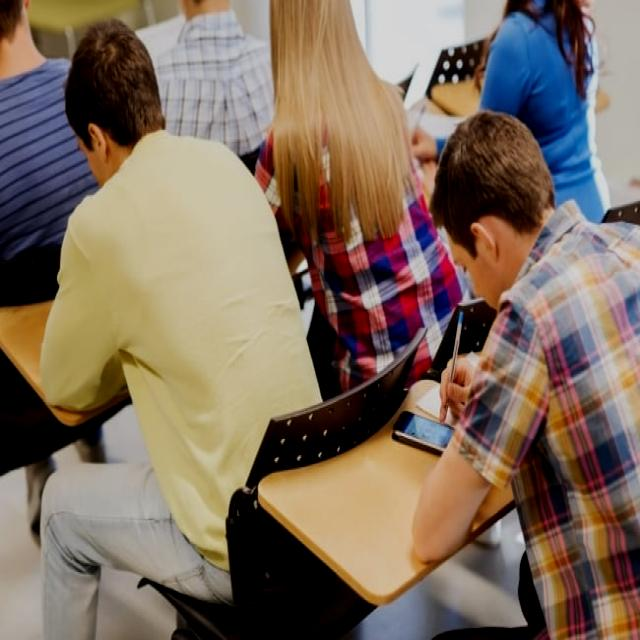non-cheating: (387, 394, 484, 471)
